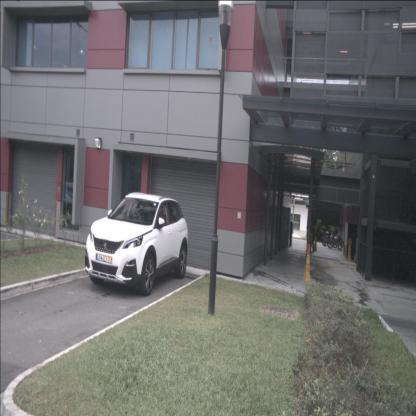human-pedestrian-adult: (306, 212, 314, 255)
movable_object-trafficcone: (303, 243, 311, 283), (346, 238, 352, 262), (313, 236, 317, 252)
vehicle-car: (85, 192, 188, 296)
